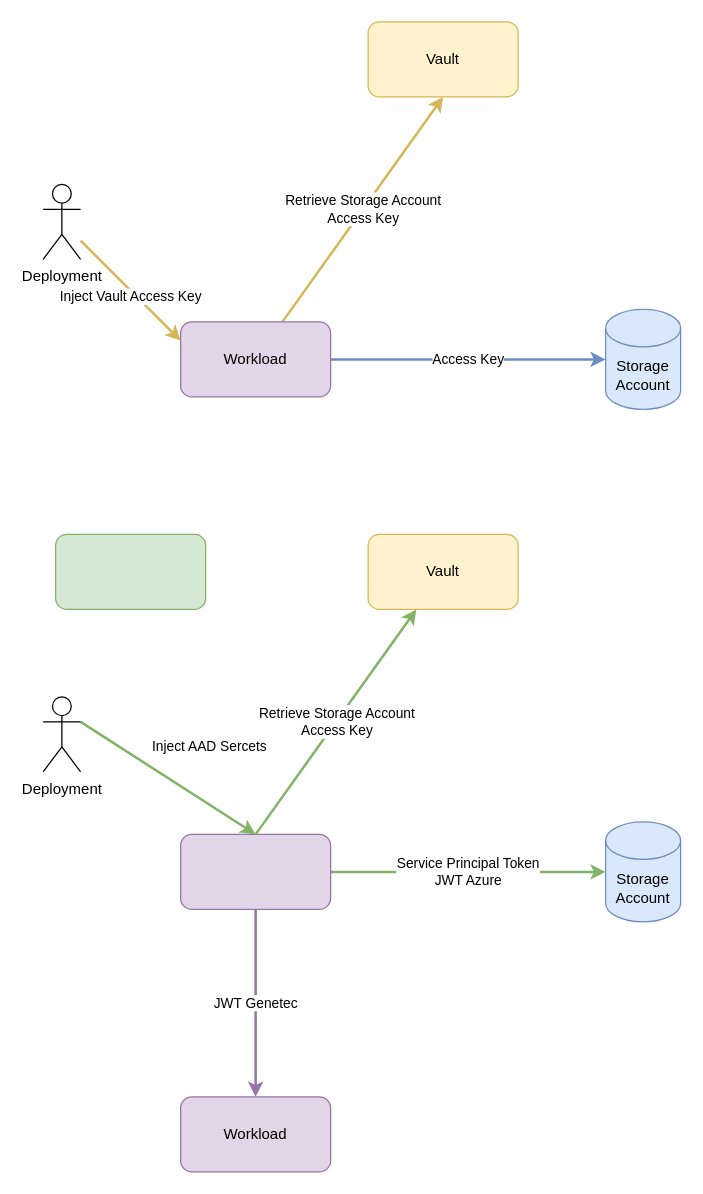
Image size: 703x1194. Some labels were removed from this diagram. Each missing label, with the box of its shape:
Azure AD: (54, 533, 206, 609)
Workload - SDK (Credentials): (179, 833, 331, 909)
